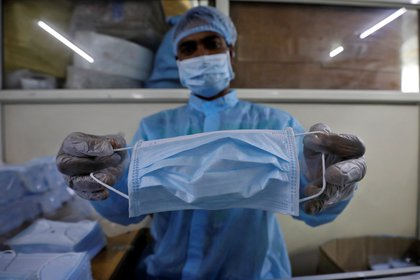barbijo: (174, 51, 236, 97)
